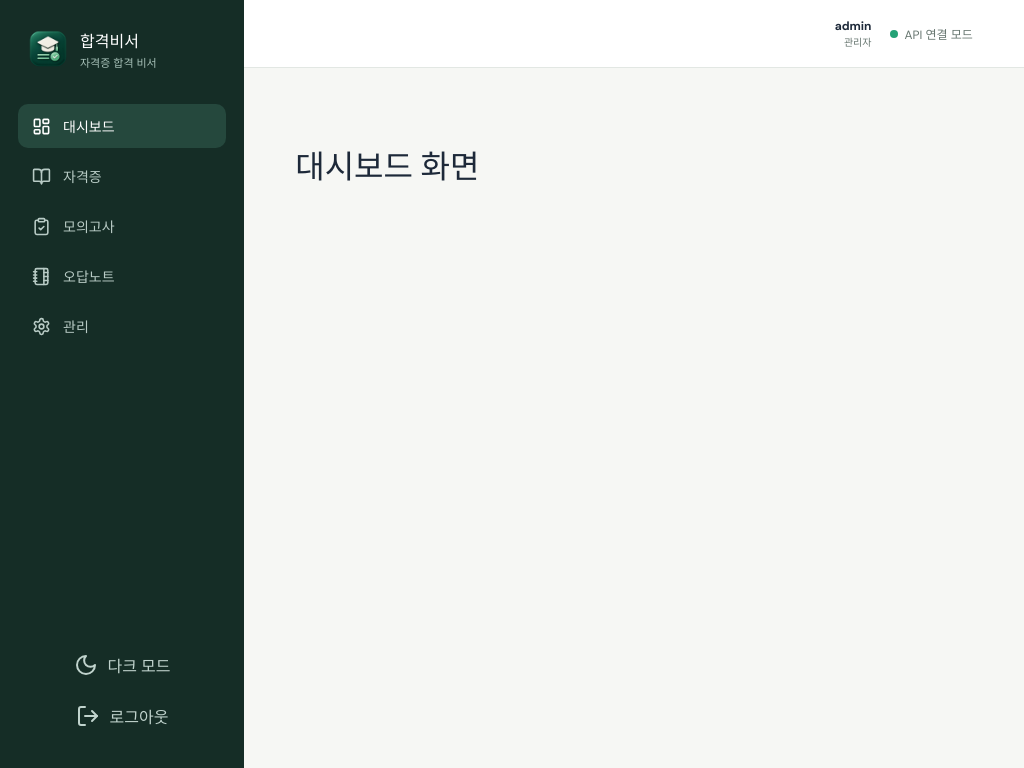
Test case: Study exit guard › navigates immediately when no learning guard is active
Click the link "자격증": (67, 176) x1=32 y1=166 x2=102 y2=186
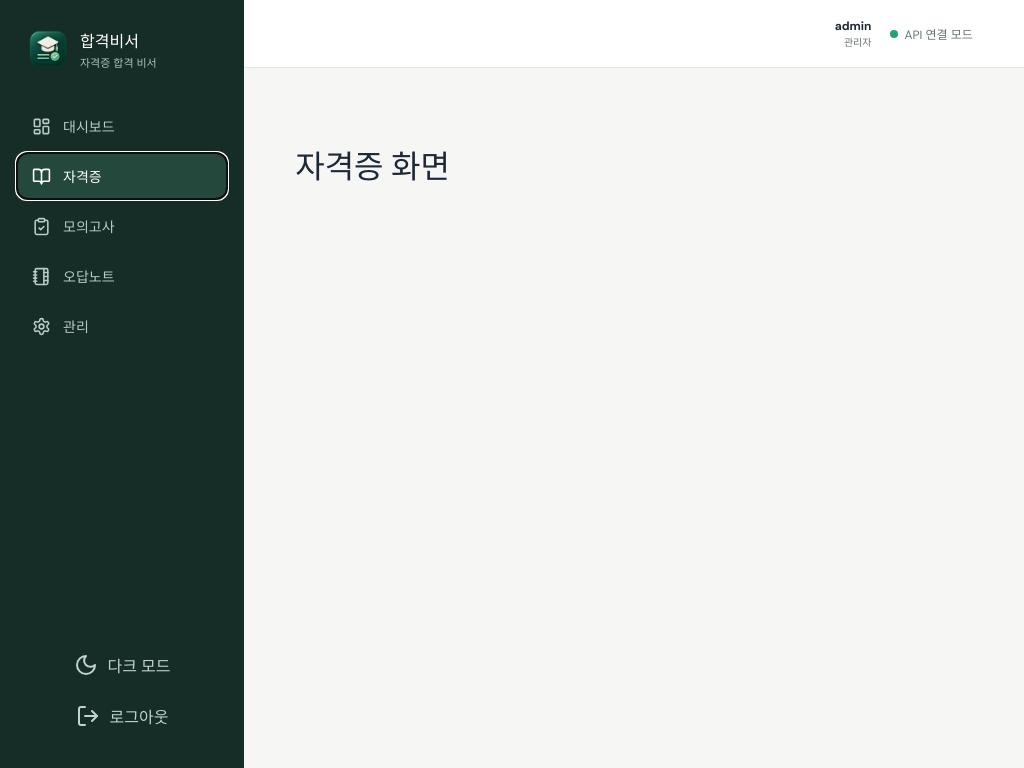
Expected: the heading "자격증 화면" is shown, x1=295 y1=146 x2=450 y2=188
